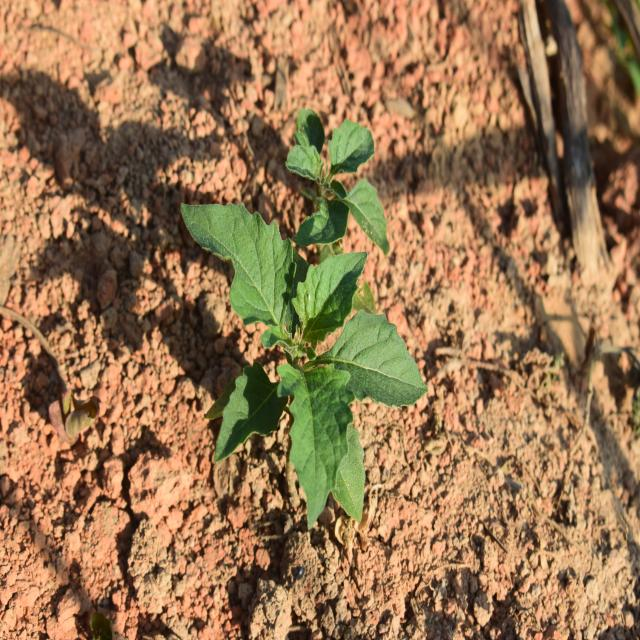Black_nightshade: (189, 212, 425, 513), (275, 92, 412, 273)
